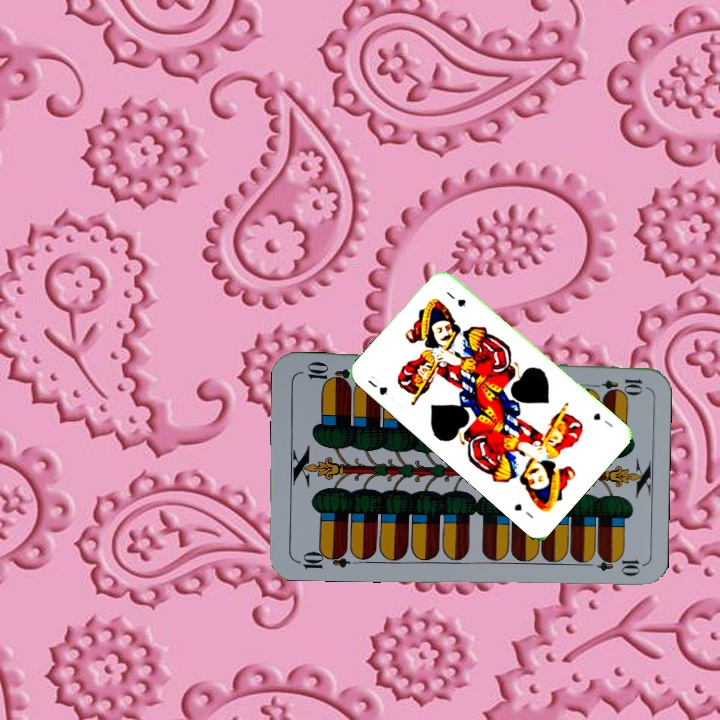E10: (293, 545, 352, 571), (586, 375, 645, 393)
GU: (363, 371, 391, 398), (589, 408, 616, 430)
